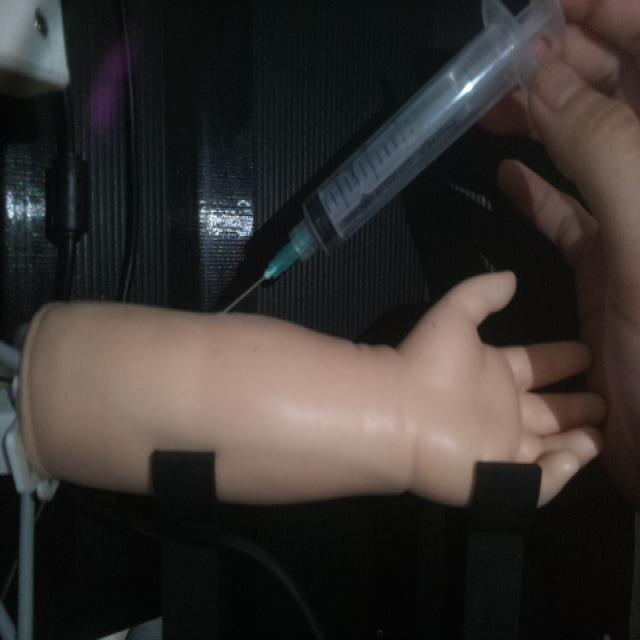Outside: (218, 0, 566, 318)
